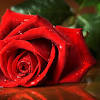rose: (1, 6, 100, 89)
